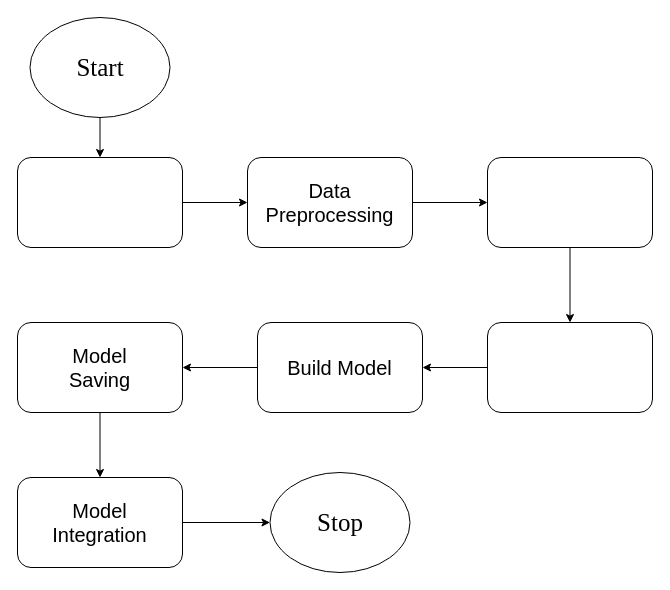
Image size: 670x590. Some labels were removed from this diagram. Here are the shapes that lost their labels. From the top down, the centre of each, then its label:
[99,202]: Data Analysis
[569,202]: Implement Algorithm
[569,367]: Train Dataset
